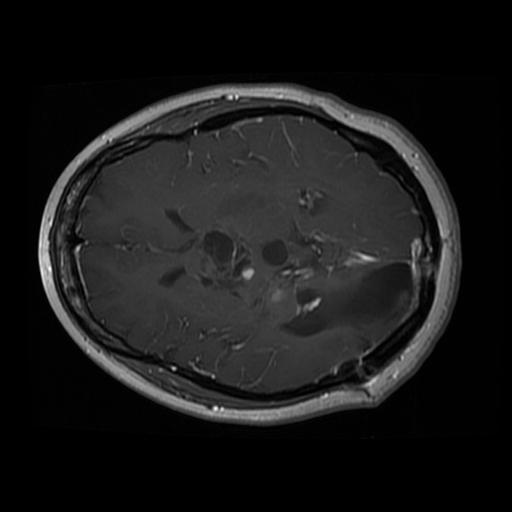glioma: (250, 227, 417, 360)
